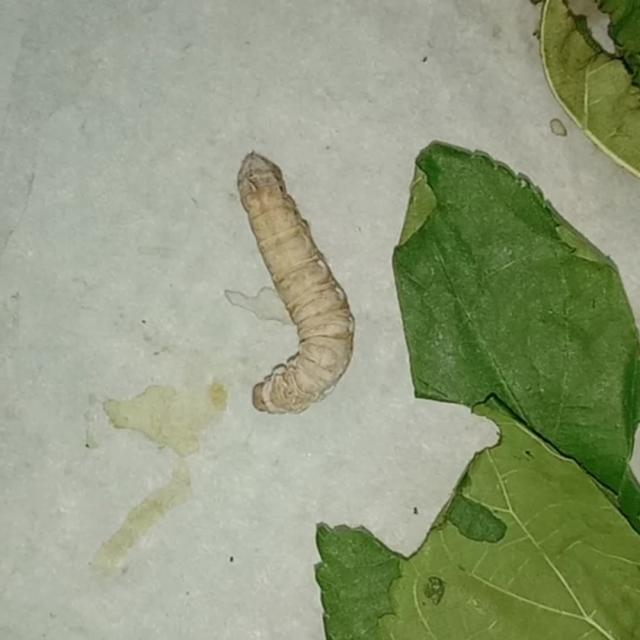Grasserie: (215, 141, 372, 426)
